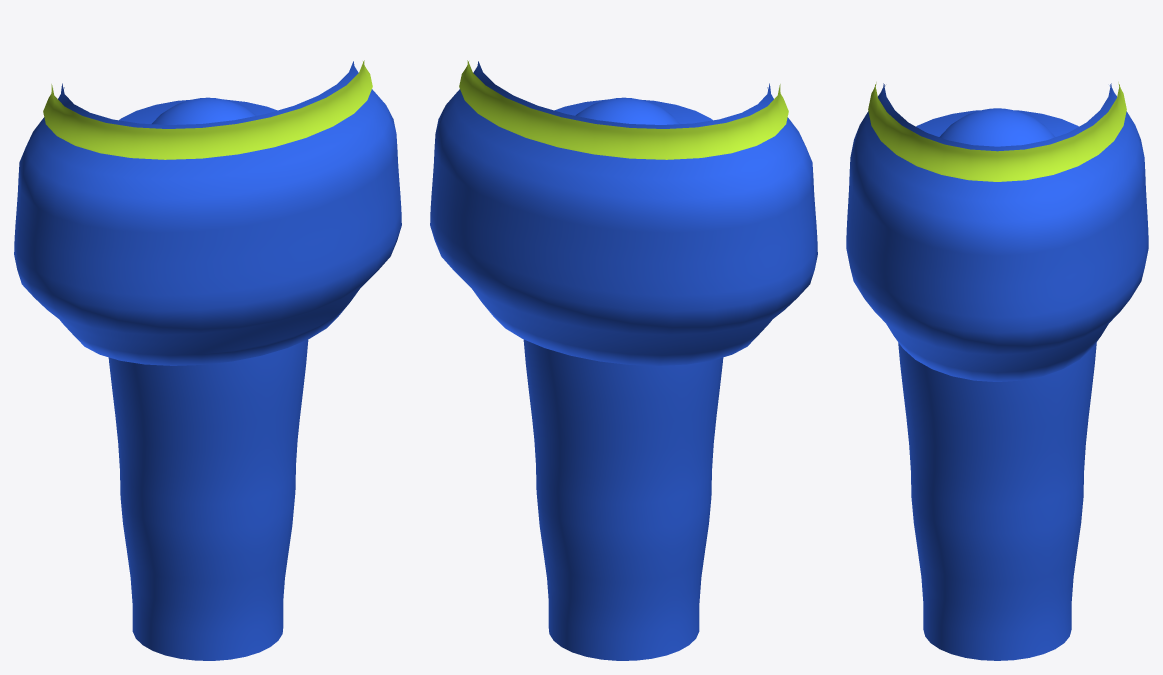
File: bottom_capri_female.glb
The picture shows the model from 3 angles, left to right: view 1: azimuth 30°, elevation 25°; view 2: azimuth 150°, elevation 25°; view 3: azimuth 270°, elevation 25°; orthographic projection.
Visible parts, largest first — view 1: pants, pant_leg, waistband, tight_knee; view 2: pants, pant_leg, waistband, tight_knee; view 3: pants, pant_leg, waistband, tight_knee.
Boxes of the visible parts, <box> form: pants: <box>14,61,401,365</box>; pant_leg: <box>108,99,308,660</box>; waistband: <box>43,60,372,159</box>; tight_knee: <box>152,97,256,124</box>; pants: <box>430,61,817,365</box>; pant_leg: <box>523,99,723,660</box>; waistband: <box>459,60,788,159</box>; tight_knee: <box>575,97,679,124</box>; pants: <box>846,83,1148,381</box>; pant_leg: <box>898,110,1096,660</box>; waistband: <box>868,82,1126,181</box>; tight_knee: <box>939,108,1055,146</box>.
Size of the model in its own units: 0.338 by 0.5056 by 0.2535.
